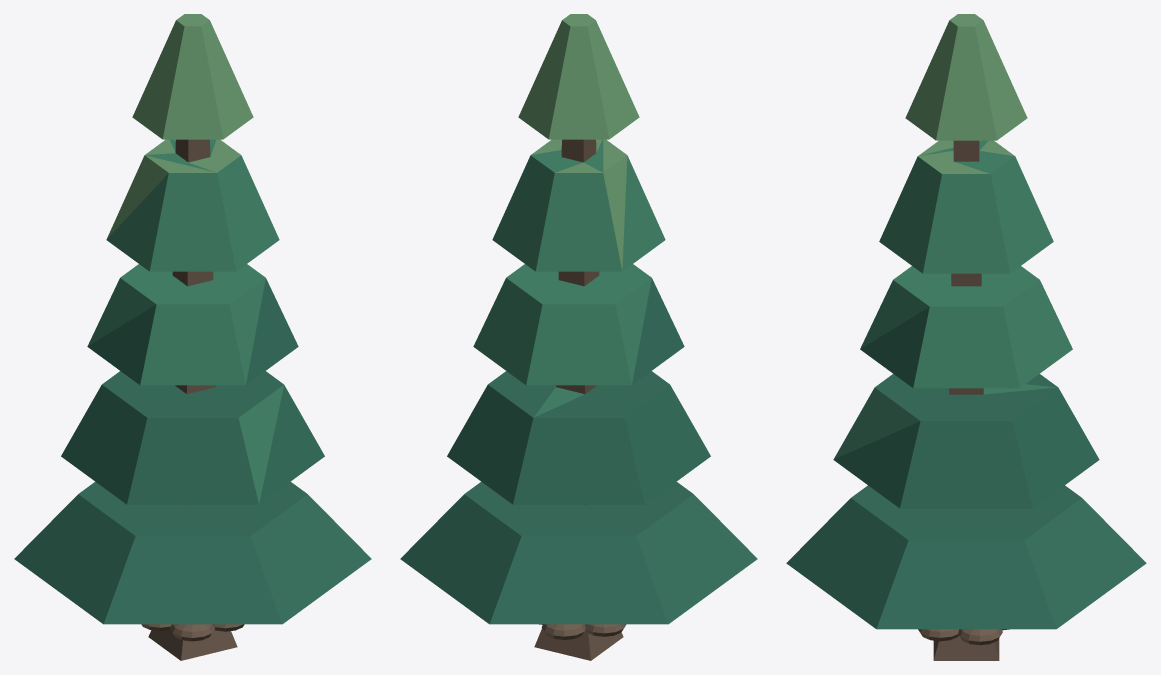
The model's file is tree_pineRoundA.glb.
3 views of the same model, side by side, from view 1: azimuth 30°, elevation 25°; view 2: azimuth 150°, elevation 25°; view 3: azimuth 270°, elevation 25° (orthographic).
Visible parts, largest first — view 1: tree_pineRoundA; view 2: tree_pineRoundA; view 3: tree_pineRoundA.
Part boxes in pixels (x1,y1,x2,y2): tree_pineRoundA: (14,14,371,660); tree_pineRoundA: (400,14,757,660); tree_pineRoundA: (786,14,1146,660).
Bounding box in the file's own units: 0.617 × 1.37 × 0.7125.
